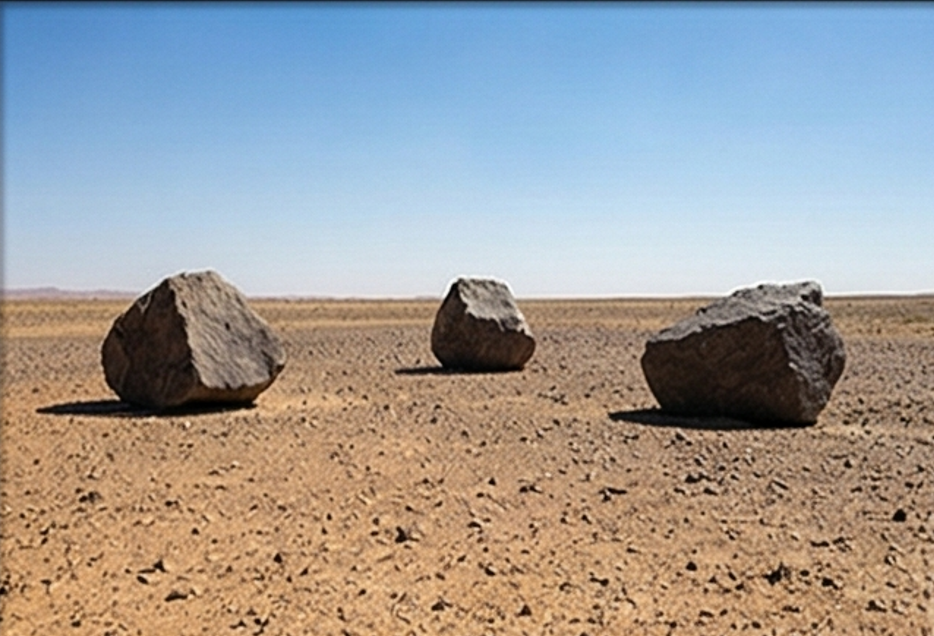rocks: (642, 281, 845, 421), (103, 272, 284, 407), (431, 279, 534, 369)
